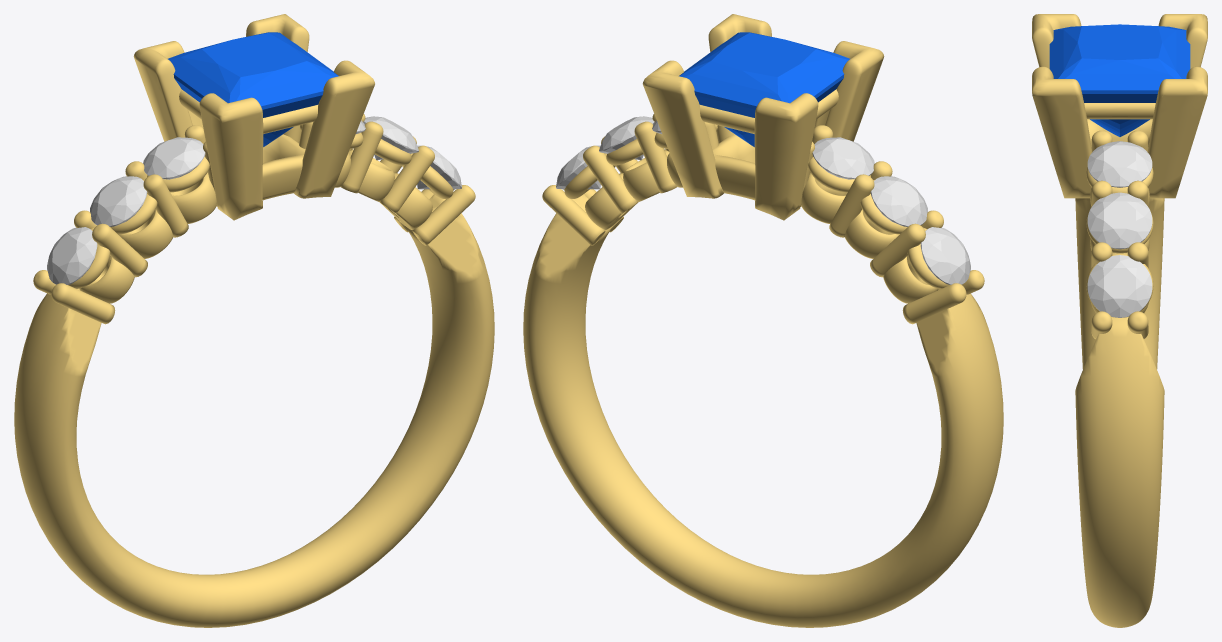
The model's file is bluesapphire-princess-yellowgold-protectededges4prongs-taperedband-7stone.glb.
3 views of the same model, side by side, from view 1: azimuth 30°, elevation 25°; view 2: azimuth 150°, elevation 25°; view 3: azimuth 270°, elevation 25° (orthographic).
Parts seen in each view (by area): view 1: metal, stone, side, side.001, side.002, side.004, side.005; view 2: metal, stone, side, side.001, side.002, side.004, side.005; view 3: metal, stone, side.005, side.004, side.003.
Boxes of the visible parts, <box> form: metal: <box>14,14,494,627</box>; stone: <box>168,32,338,146</box>; side: <box>47,227,97,284</box>; side.001: <box>90,176,147,226</box>; side.002: <box>143,137,205,179</box>; side.004: <box>363,116,418,160</box>; side.005: <box>417,145,461,189</box>; metal: <box>523,14,1003,627</box>; stone: <box>679,32,849,146</box>; side: <box>920,227,970,284</box>; side.001: <box>870,176,927,226</box>; side.002: <box>812,137,874,179</box>; side.004: <box>599,116,654,160</box>; side.005: <box>556,145,600,189</box>; metal: <box>1032,14,1207,627</box>; stone: <box>1049,24,1190,136</box>; side.005: <box>1087,255,1152,317</box>; side.004: <box>1087,192,1152,249</box>; side.003: <box>1087,141,1152,187</box>.
Bounding box in the file's own units: 20.5 × 23.85 × 6.77.
